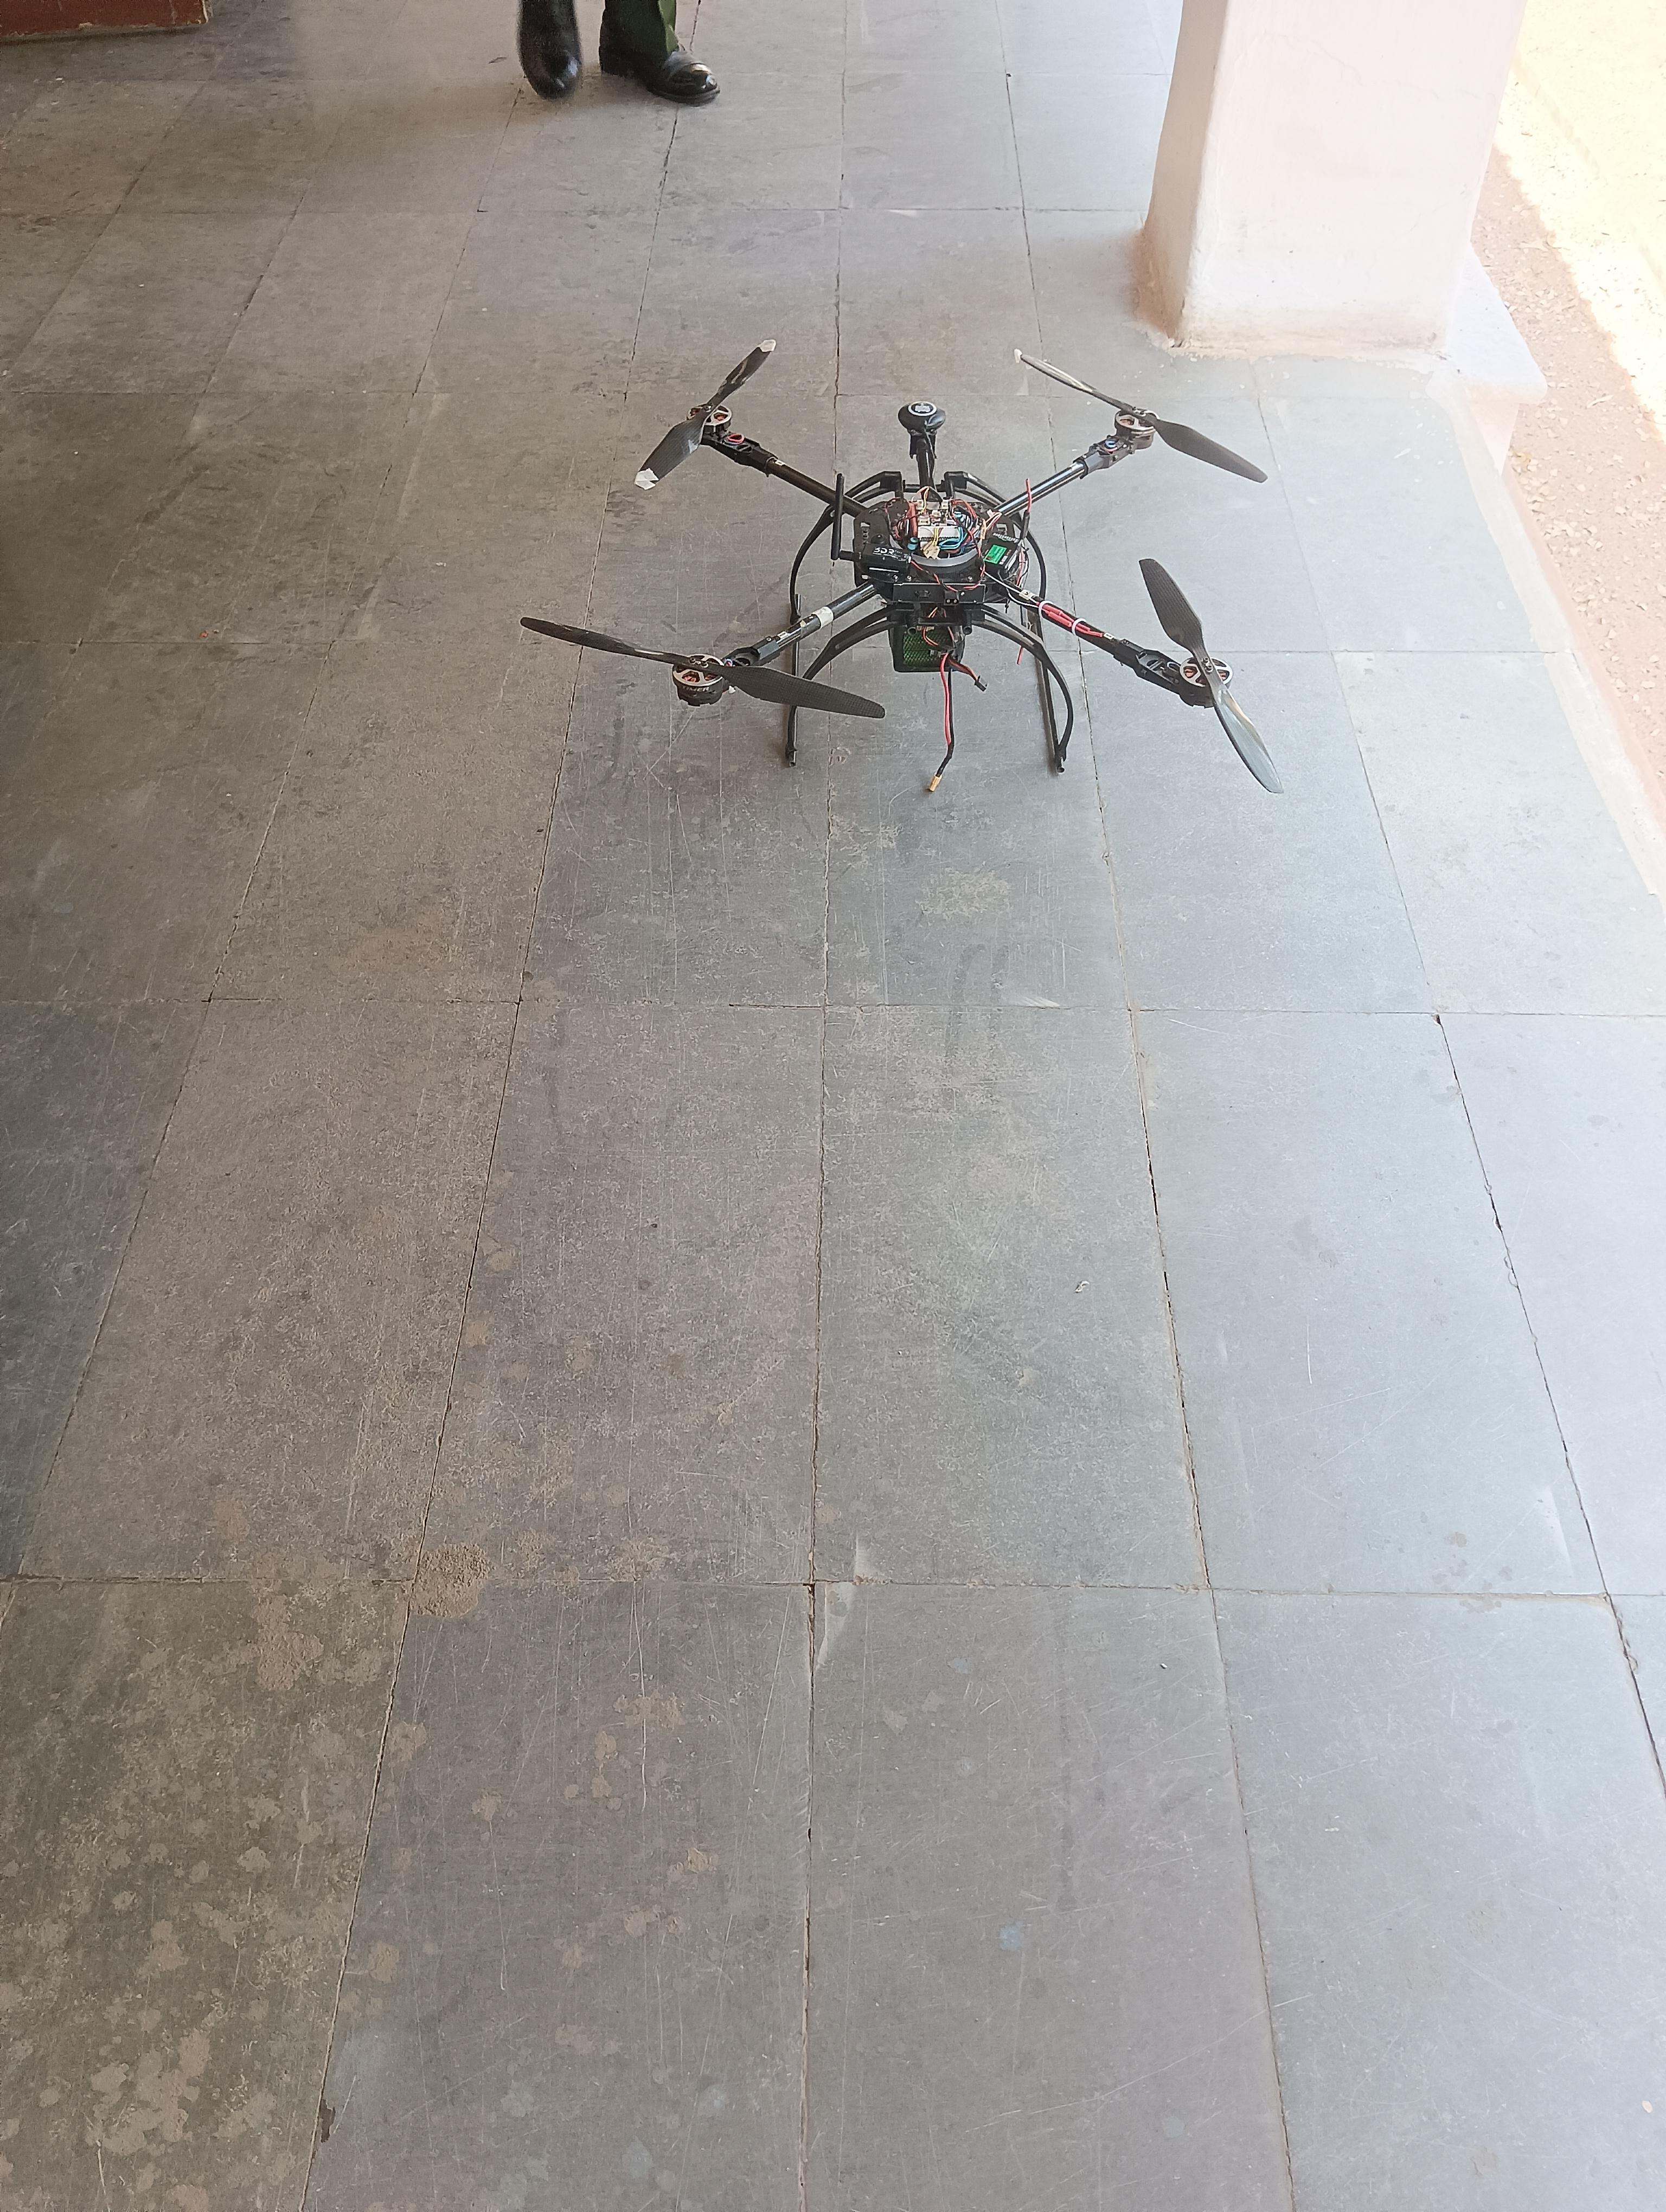drone: (451, 294, 1341, 858)
